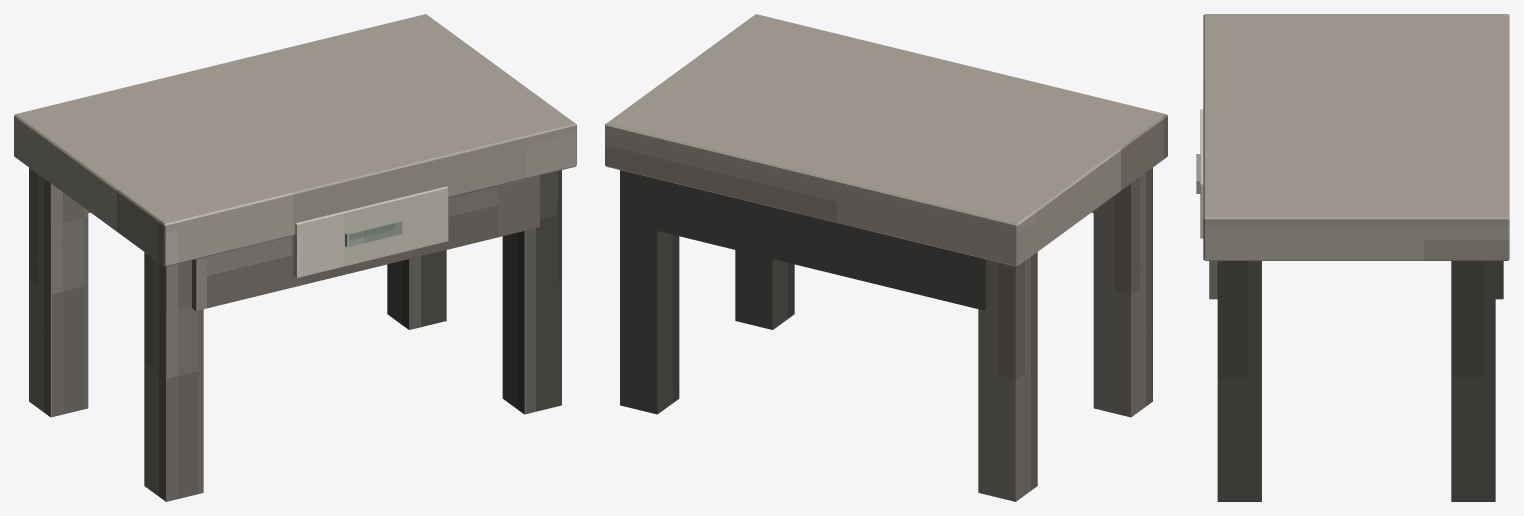
File: wooden_table_ash.glb
3 views of the same model, side by side, from view 1: azimuth 30°, elevation 25°; view 2: azimuth 150°, elevation 25°; view 3: azimuth 270°, elevation 25° (orthographic).
Parts seen in each view (by area): view 1: TableTop, TableLeg_1, TableLeg_3, TableLeg_2, FrontApron, TableDrawer, TableLeg_4, DrawerHandle; view 2: TableTop, BackApron, TableLeg_3, TableLeg_1, TableLeg_4, TableLeg_2; view 3: TableTop, TableLeg_2, TableLeg_4, TableDrawer.
Boxes of the visible parts, x1,y1,x2,y2 form: TableTop: (14, 14, 576, 266); TableLeg_1: (144, 252, 203, 501); TableLeg_3: (29, 167, 88, 417); TableLeg_2: (502, 170, 561, 414); FrontApron: (192, 175, 539, 310); TableDrawer: (292, 186, 448, 277); TableLeg_4: (387, 250, 446, 329); DrawerHandle: (345, 220, 402, 247); TableTop: (605, 14, 1167, 266); BackApron: (642, 175, 989, 310); TableLeg_3: (978, 252, 1037, 501); TableLeg_1: (1093, 167, 1152, 417); TableLeg_4: (620, 170, 679, 414); TableLeg_2: (735, 250, 794, 329); TableTop: (1203, 14, 1509, 260); TableLeg_2: (1217, 261, 1261, 501); TableLeg_4: (1451, 261, 1495, 501); TableDrawer: (1200, 109, 1203, 238).
Bounding box in the file's own units: 1.2 × 0.79 × 0.778.
Materials: 1 (1 with a texture image).
